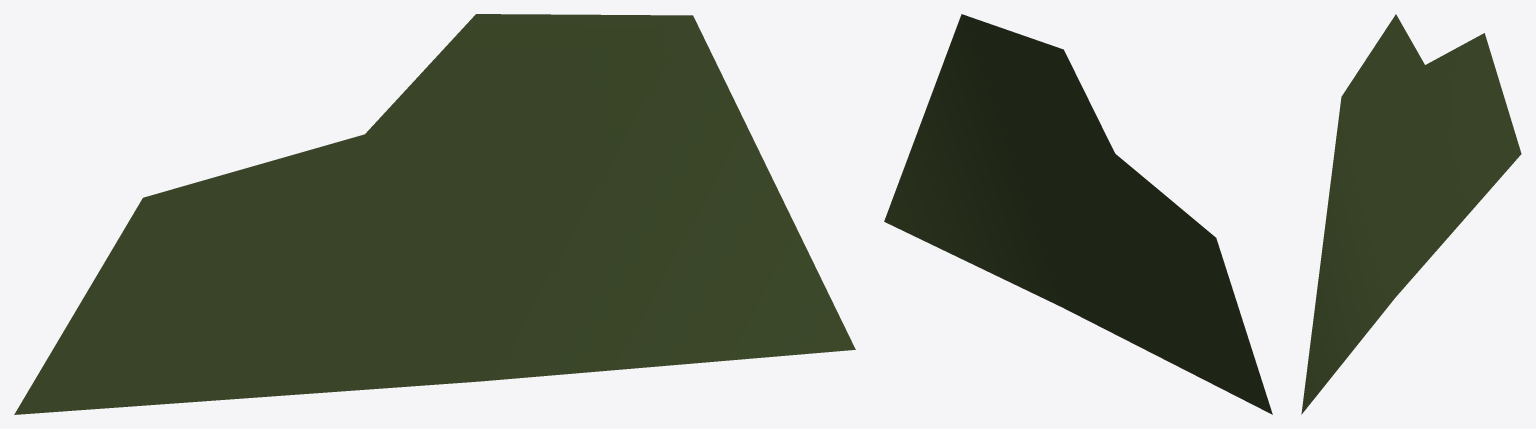
File: SM_Env_Background_Island_04.glb
3 renders of one model, left to right at view 1: azimuth 30°, elevation 25°; view 2: azimuth 150°, elevation 25°; view 3: azimuth 270°, elevation 25°, orthographic. The views are drawn at different scales.
Parts seen in each view (by area): view 1: SM_Env_Background_Island_04; view 2: SM_Env_Background_Island_04; view 3: SM_Env_Background_Island_04.
Boxes of the visible parts, bbox=[...] form: SM_Env_Background_Island_04: bbox=[14, 14, 855, 414]; SM_Env_Background_Island_04: bbox=[884, 14, 1272, 414]; SM_Env_Background_Island_04: bbox=[1301, 14, 1521, 414].
Size of the model in its own units: 0.1307 by 0.0659 by 0.0466.
